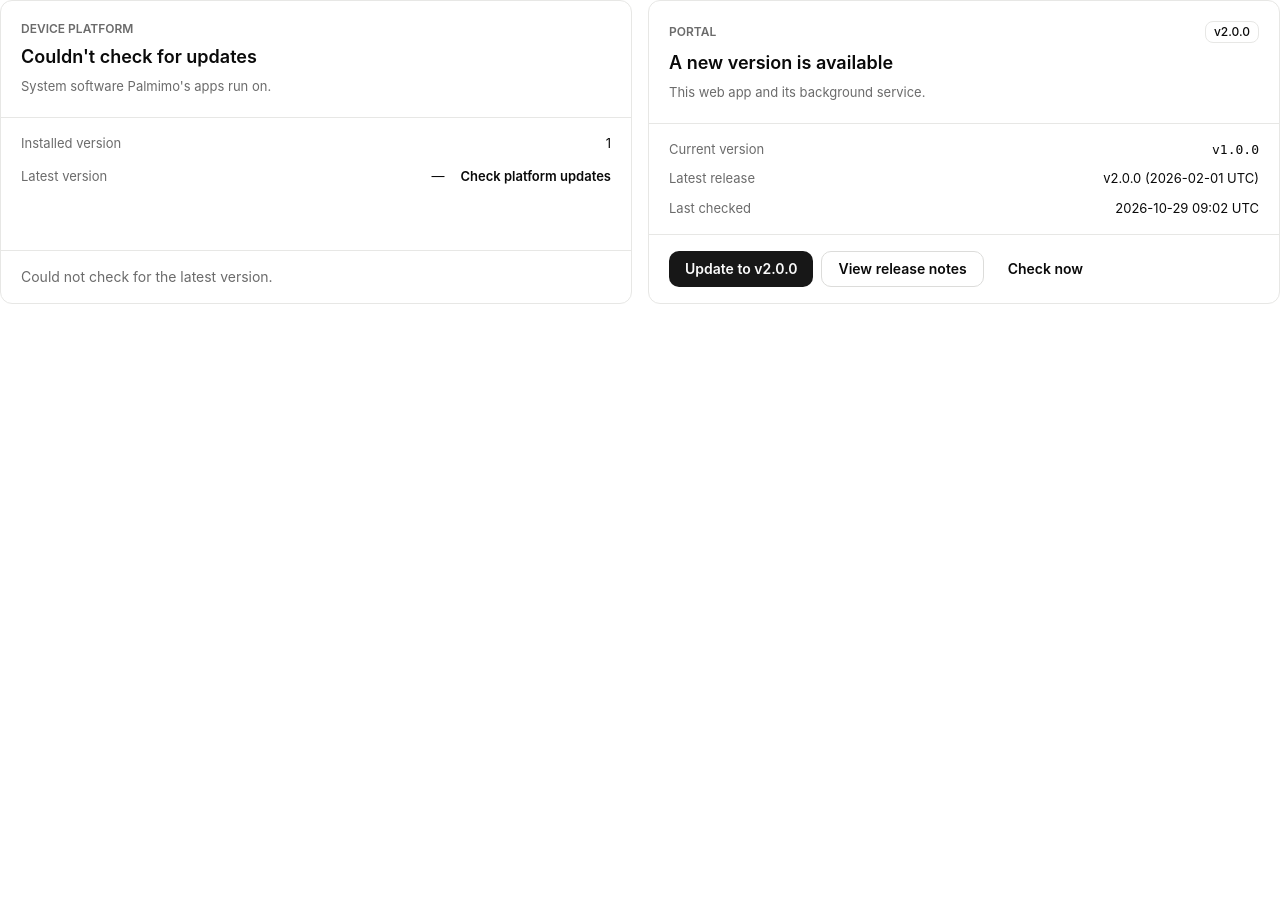
UpdatePanel › shows the running/progress UI from the apply mutation's own response, without the status GET ever reporting running
The image size is (1280, 900).
Click the button "Update to v2.0.0": (741,269) [669,251,814,287]
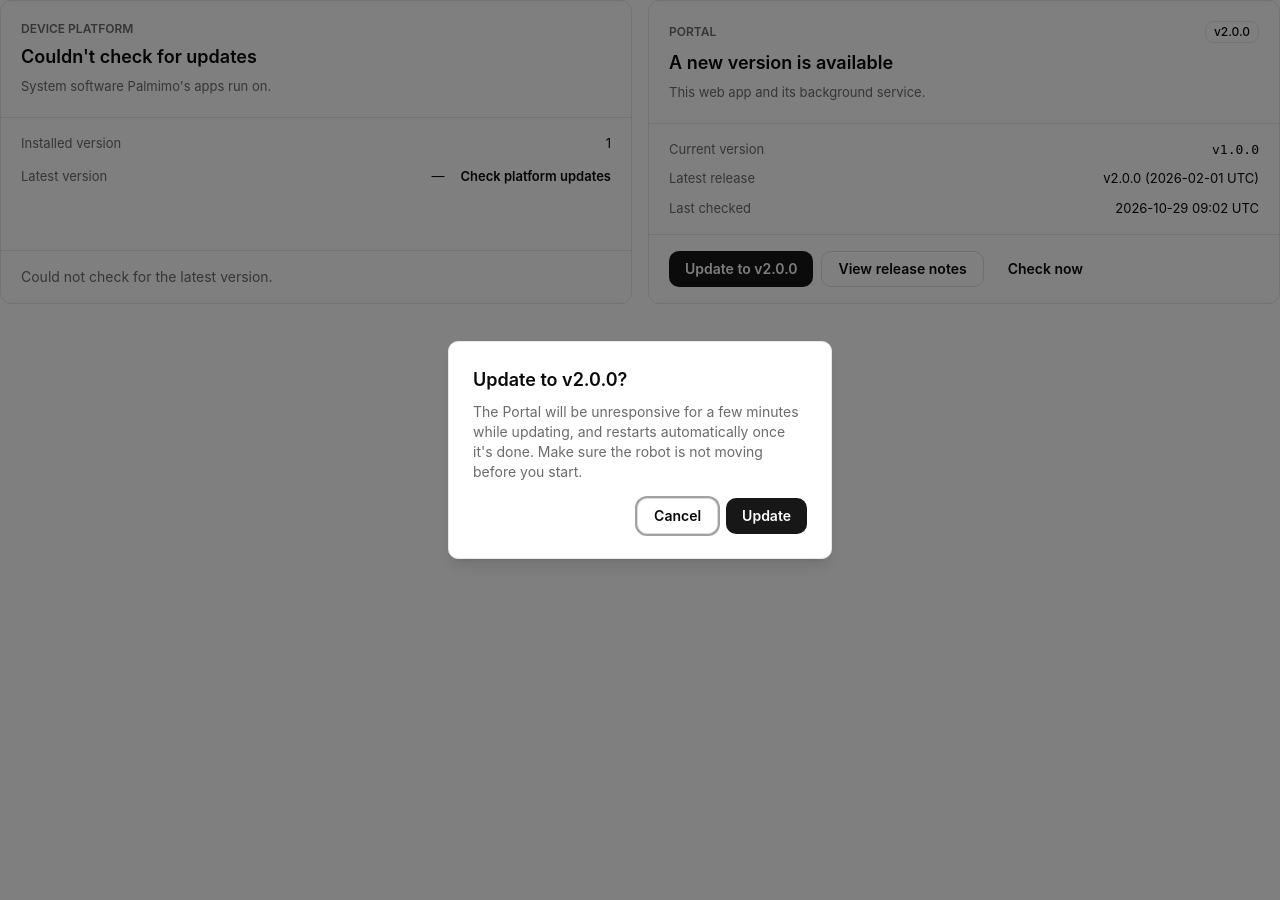
Click the button "Update": (767,516) [726,498,807,534]
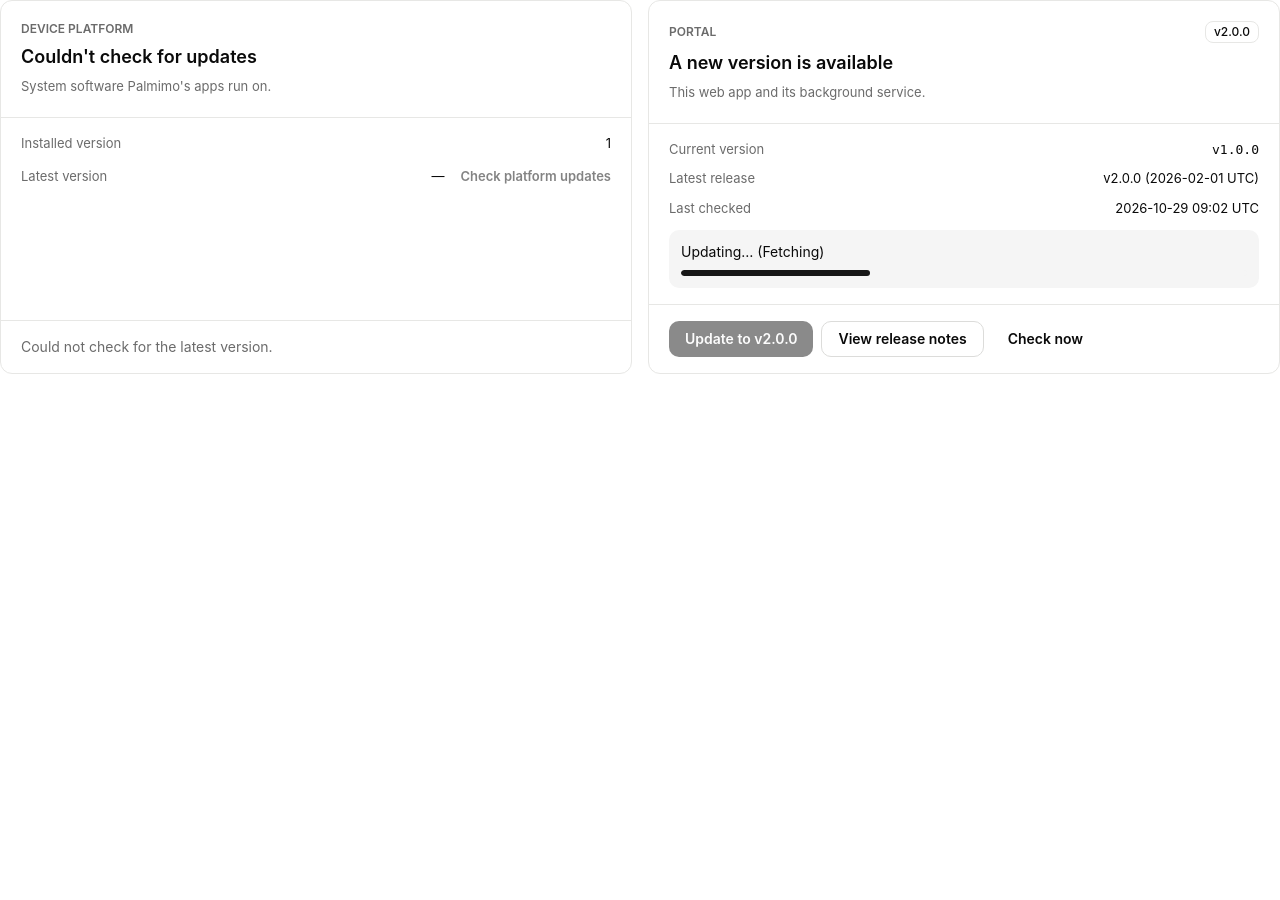
Expected: the text "Updating… (Fetching)" is shown, [681,243,824,260]
